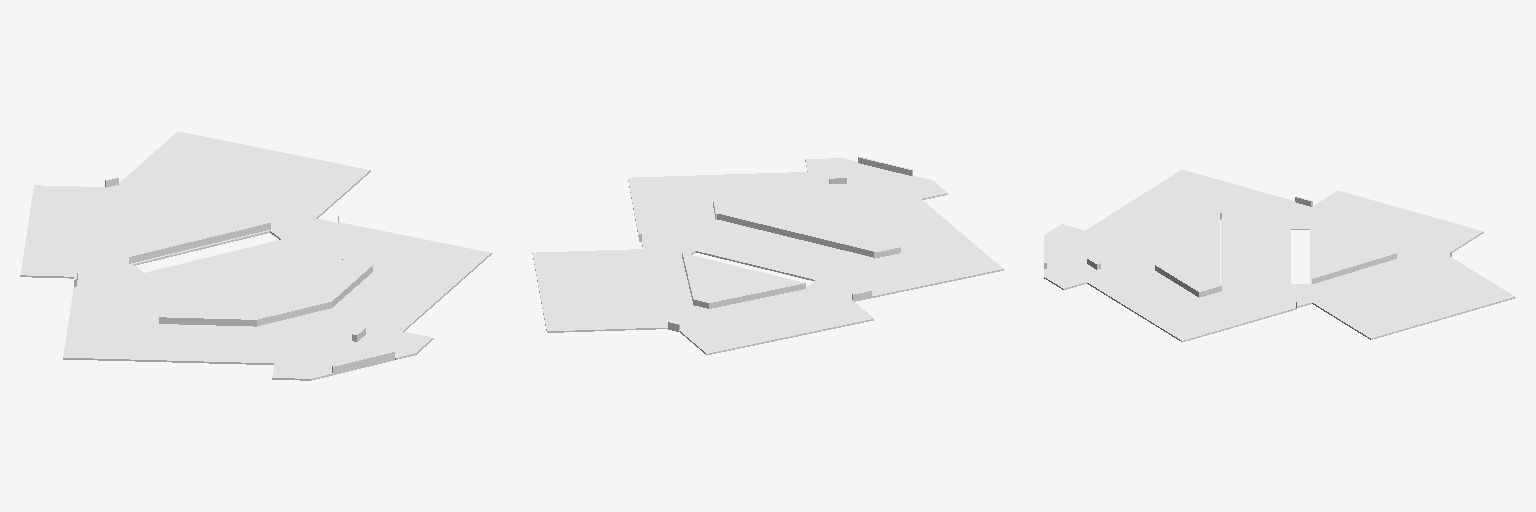
URDF robot description (Plano_completo):
<?xml version="1.0" encoding="utf-8"?>
<!-- This URDF was automatically created by SolidWorks to URDF Exporter! Originally created by [author] ([email redacted]) 
     Commit Version: 1.5.1-0-g916b5db  Build Version: 1.5.7152.31018
     For more information, please see http://wiki.ros.org/sw_urdf_exporter -->
<robot
  name="Plano_completo">
  <link
    name="Plano">
    <inertial>
      <origin
        xyz="-8.38540782137692 -17.8815394750934 0.154428901029084"
        rpy="0 0 0" />
      <mass
        value="105645.565151975" />
      <inertia
        ixx="4345955.21245055"
        ixy="-517599.704326117"
        ixz="3.39668009280715E-11"
        iyy="3034038.417064"
        iyz="2.65756986578557E-10"
        izz="7377512.10802731" />
    </inertial>
    <visual>
      <origin
        xyz="0 0 0"
        rpy="0 0 0" />
      <geometry>
        <mesh
          filename="package://Plano_completo/meshes/Plano.STL" />
      </geometry>
      <material
        name="">
        <color
          rgba="1 1 1 1" />
      </material>
    </visual>
    <collision>
      <origin
        xyz="0 0 0"
        rpy="0 0 0" />
      <geometry>
        <mesh
          filename="package://Plano_completo/meshes/Plano.STL" />
      </geometry>
    </collision>
  </link>
  <link
    name="Paredes">
    <inertial>
      <origin
        xyz="-8.33486592764714 1.62 17.2787605001807"
        rpy="0 0 0" />
      <mass
        value="106998.234725186" />
      <inertia
        ixx="1884398.41780361"
        ixy="1.10860414618147E-10"
        ixz="-46224.2076186341"
        iyy="2975088.2144271"
        iyz="1.74430919699401E-10"
        izz="1251187.14871118" />
    </inertial>
    <visual>
      <origin
        xyz="0 0 0"
        rpy="0 0 0" />
      <geometry>
        <mesh
          filename="package://Plano_completo/meshes/Paredes.STL" />
      </geometry>
      <material
        name="">
        <color
          rgba="0.792156862745098 0.819607843137255 0.933333333333333 1" />
      </material>
    </visual>
    <collision>
      <origin
        xyz="0 0 0"
        rpy="0 0 0" />
      <geometry>
        <mesh
          filename="package://Plano_completo/meshes/Paredes.STL" />
      </geometry>
    </collision>
  </link>
  <joint
    name="paredes"
    type="fixed">
    <origin
      xyz="0 0 0"
      rpy="1.5707963267949 0 0" />
    <parent
      link="Plano" />
    <child
      link="Paredes" />
    <axis
      xyz="0 0 0" />
  </joint>
  <link
    name="Mural">
    <inertial>
      <origin
        xyz="-8.91337374680909 1.62 20.732539789078"
        rpy="0 0 0" />
      <mass
        value="5471.98532264628" />
      <inertia
        ixx="4114.24896446467"
        ixy="-4.16853669587957E-13"
        ixz="1.78227682181781E-13"
        iyy="67436.431005008"
        iyz="-1.12502298066905E-14"
        izz="71530.1600245127" />
    </inertial>
    <visual>
      <origin
        xyz="0 0 0"
        rpy="0 0 0" />
      <geometry>
        <mesh
          filename="package://Plano_completo/meshes/Mural.STL" />
      </geometry>
      <material
        name="">
        <color
          rgba="0.792156862745098 0.819607843137255 0.933333333333333 1" />
      </material>
    </visual>
    <collision>
      <origin
        xyz="0 0 0"
        rpy="0 0 0" />
      <geometry>
        <mesh
          filename="package://Plano_completo/meshes/Mural.STL" />
      </geometry>
    </collision>
  </link>
  <joint
    name="mural"
    type="fixed">
    <origin
      xyz="0 0 0"
      rpy="1.5707963267949 0 0" />
    <parent
      link="Plano" />
    <child
      link="Mural" />
    <axis
      xyz="0 0 0" />
  </joint>
</robot>

--- Facts derived from the render (not from the file) ---
The picture shows the robot from 3 angles, left to right: view 1: azimuth 30°, elevation 25°; view 2: azimuth 150°, elevation 25°; view 3: azimuth 270°, elevation 25°; orthographic projection.
Robot: Plano_completo — 3 links, 2 joints (2 fixed); root link Plano; default pose: every joint at zero.
Visible links, largest first — view 1: Plano; view 2: Plano; view 3: Plano.
Boxes of the visible links, x1,y1,x2,y2 form: Plano: [20, 131, 491, 380]; Plano: [532, 157, 1003, 354]; Plano: [1044, 170, 1515, 342].
Size in the robot's own frame: 28.85 by 33.46 by 0.55 metres.
Meshes: 3 distinct files referenced, 1 mesh visuals loaded (1 binary STL); not drawn: 2 (reference not matched to a file when rendering).